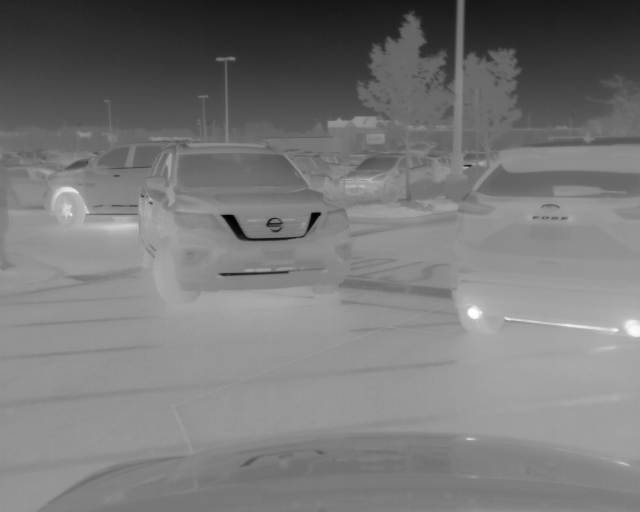car: (447, 136, 640, 343), (135, 140, 352, 305), (45, 139, 187, 225), (337, 150, 451, 204), (4, 165, 62, 213), (284, 152, 333, 198), (463, 147, 491, 170)
people: (1, 158, 18, 269)
